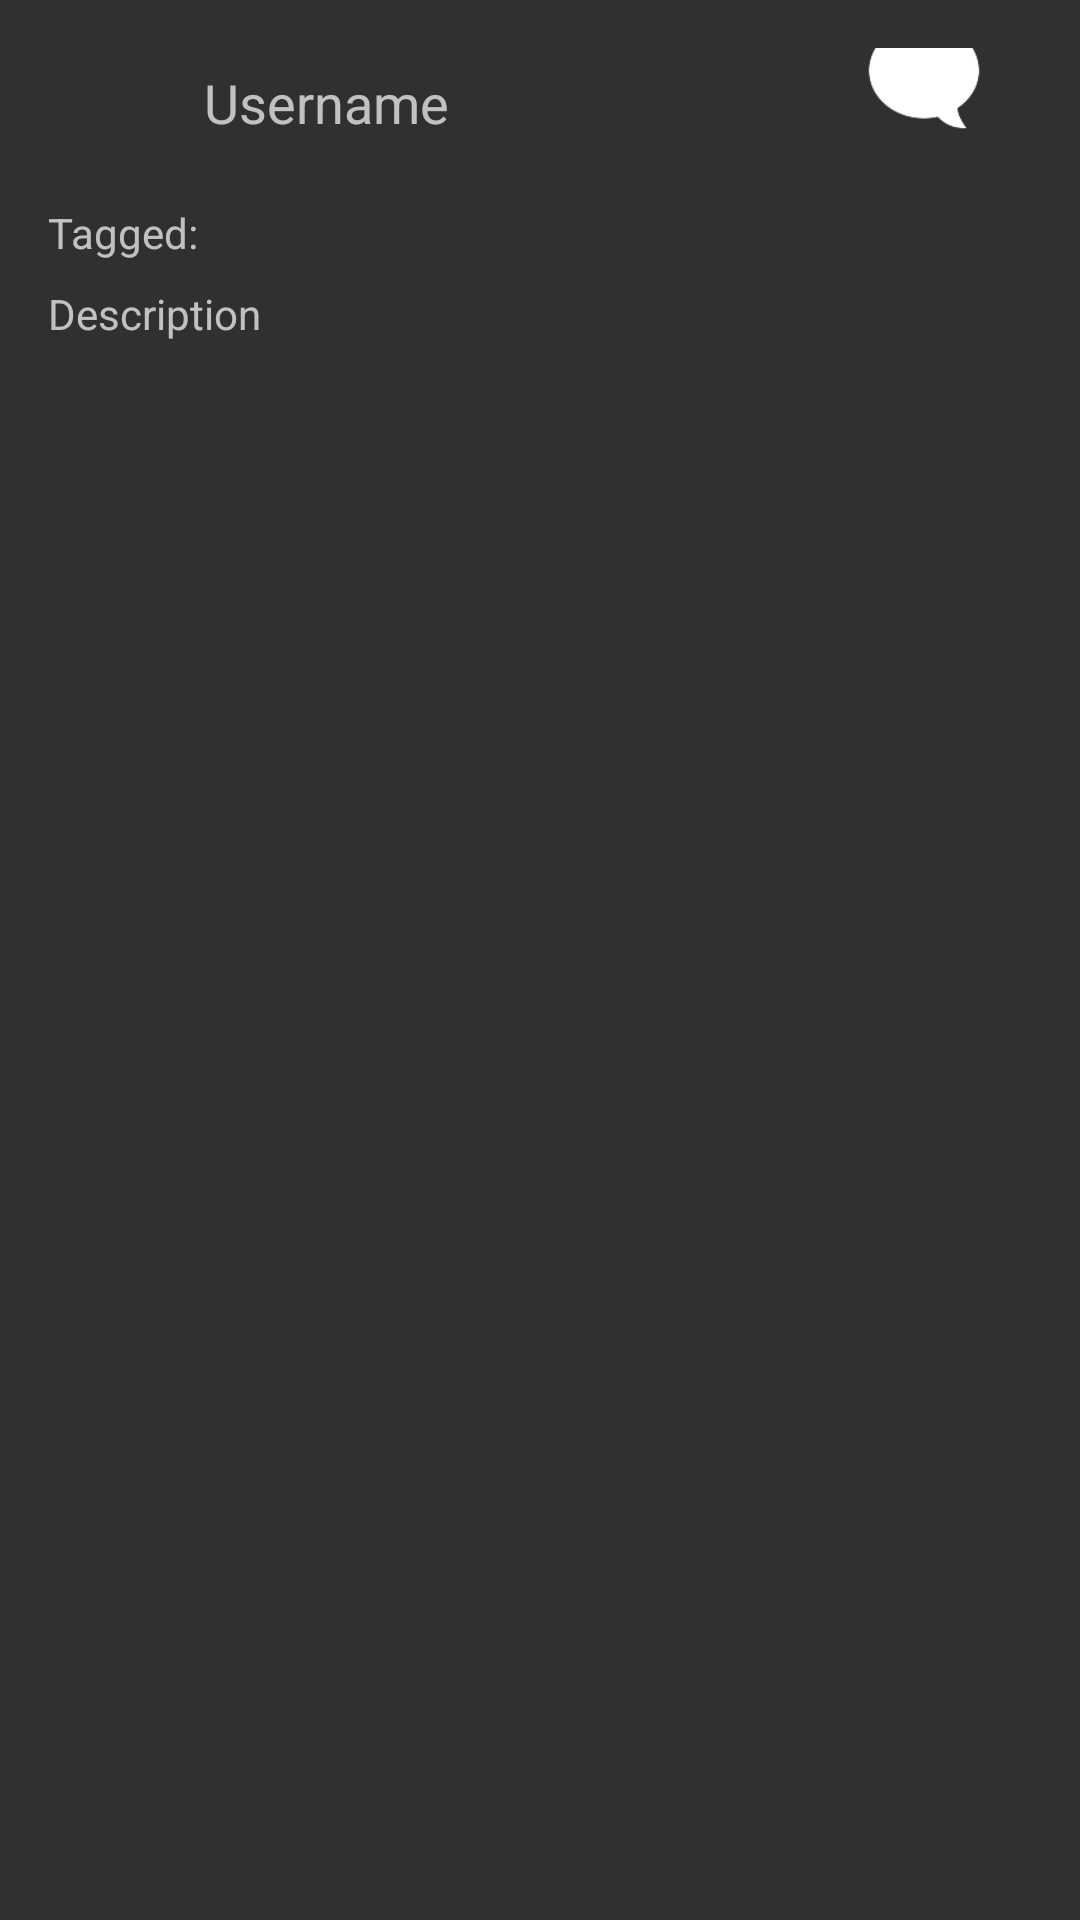

Icons on this 1080 × 1920 Android screen, each with the point to tap as (x=x, y=y):
comments: (x=924, y=88)
